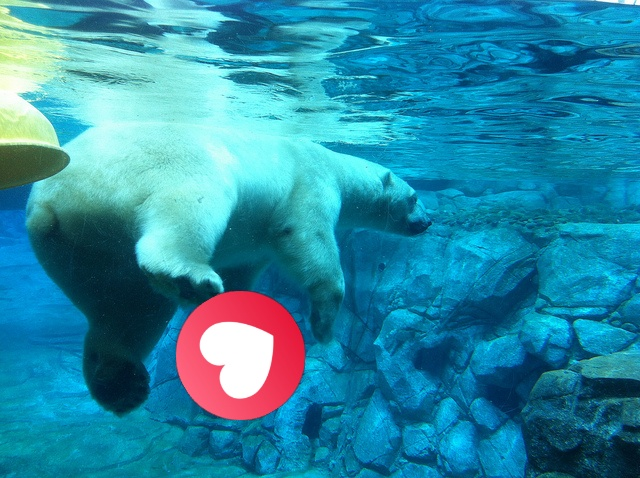love: (176, 291, 305, 420)
